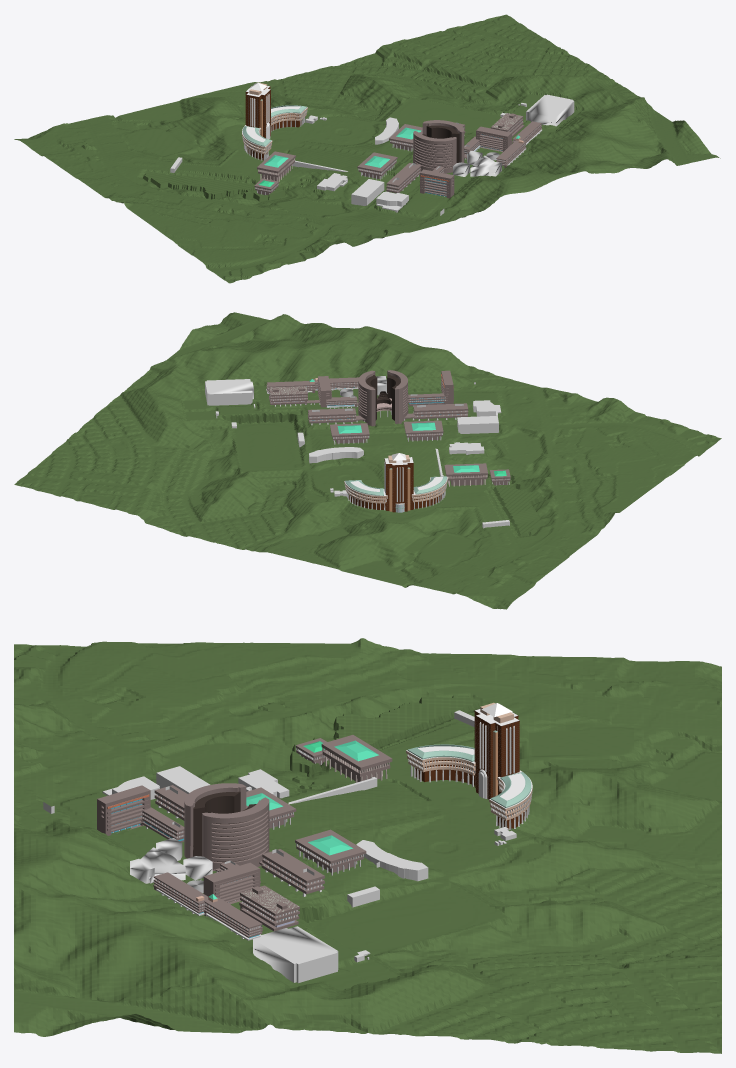
The model's file is mapData.glb.
3 views of the same model, one above another, from view 1: azimuth 30°, elevation 25°; view 2: azimuth 150°, elevation 25°; view 3: azimuth 270°, elevation 25° (orthographic). The views are drawn at different scales.
Visible parts, largest first — view 1: plate, kariburokku, Cube.017, kennkyuutou1, Cube.461, Cube.274, Cube.327, Cube.299, Cube.297, kougitouB1, Cube.316, Cube.457; view 2: plate, kariburokku, Cube.017, kennkyuutou1, Cube.299, kougitouB1, Cube.274, kougitouA1, Cube.461, Cube.297, Cube.327, Cube.316 (+1 smaller); view 3: plate, kariburokku, Cube.017, kennkyuutou1, Cube.274, Cube.327, Cube.299, Cube.316, Cube.457, Cube.461, kougitouA1, Cube.297 (+1 smaller).
Boxes of the visible parts, x1=… form: plate: x1=14, y1=14, x2=720, y2=283; kariburokku: x1=170, y1=94, x2=574, y2=215; Cube.017: x1=242, y1=82, x2=307, y2=160; kennkyuutou1: x1=413, y1=120, x2=464, y2=173; Cube.461: x1=464, y1=126, x2=511, y2=159; Cube.274: x1=420, y1=166, x2=454, y2=198; Cube.327: x1=496, y1=121, x2=542, y2=167; Cube.299: x1=257, y1=151, x2=295, y2=181; Cube.297: x1=357, y1=152, x2=397, y2=180; kougitouB1: x1=386, y1=163, x2=421, y2=193; Cube.316: x1=389, y1=124, x2=422, y2=151; Cube.457: x1=490, y1=113, x2=524, y2=137; plate: x1=14, y1=312, x2=721, y2=609; kariburokku: x1=205, y1=376, x2=509, y2=528; Cube.017: x1=344, y1=453, x2=447, y2=512; kennkyuutou1: x1=358, y1=370, x2=408, y2=426; Cube.299: x1=444, y1=463, x2=487, y2=486; kougitouB1: x1=404, y1=403, x2=468, y2=420; Cube.274: x1=408, y1=370, x2=453, y2=406; kougitouA1: x1=308, y1=408, x2=365, y2=425; Cube.461: x1=305, y1=376, x2=358, y2=408; Cube.297: x1=403, y1=420, x2=443, y2=441; Cube.327: x1=266, y1=377, x2=358, y2=393; Cube.316: x1=330, y1=423, x2=369, y2=444; plate: x1=14, y1=638, x2=721, y2=1053; kariburokku: x1=43, y1=710, x2=516, y2=983; Cube.017: x1=406, y1=702, x2=532, y2=829; kennkyuutou1: x1=184, y1=783, x2=269, y2=871; Cube.274: x1=97, y1=785, x2=184, y2=842; Cube.327: x1=153, y1=872, x2=262, y2=940; Cube.299: x1=321, y1=735, x2=392, y2=782; Cube.316: x1=295, y1=829, x2=366, y2=875; Cube.457: x1=239, y1=885, x2=299, y2=931; Cube.461: x1=203, y1=860, x2=260, y2=904; kougitouA1: x1=259, y1=849, x2=324, y2=896; Cube.297: x1=246, y1=787, x2=296, y2=829.
Bounding box in the file's own units: 1481 × 199 × 1121.
